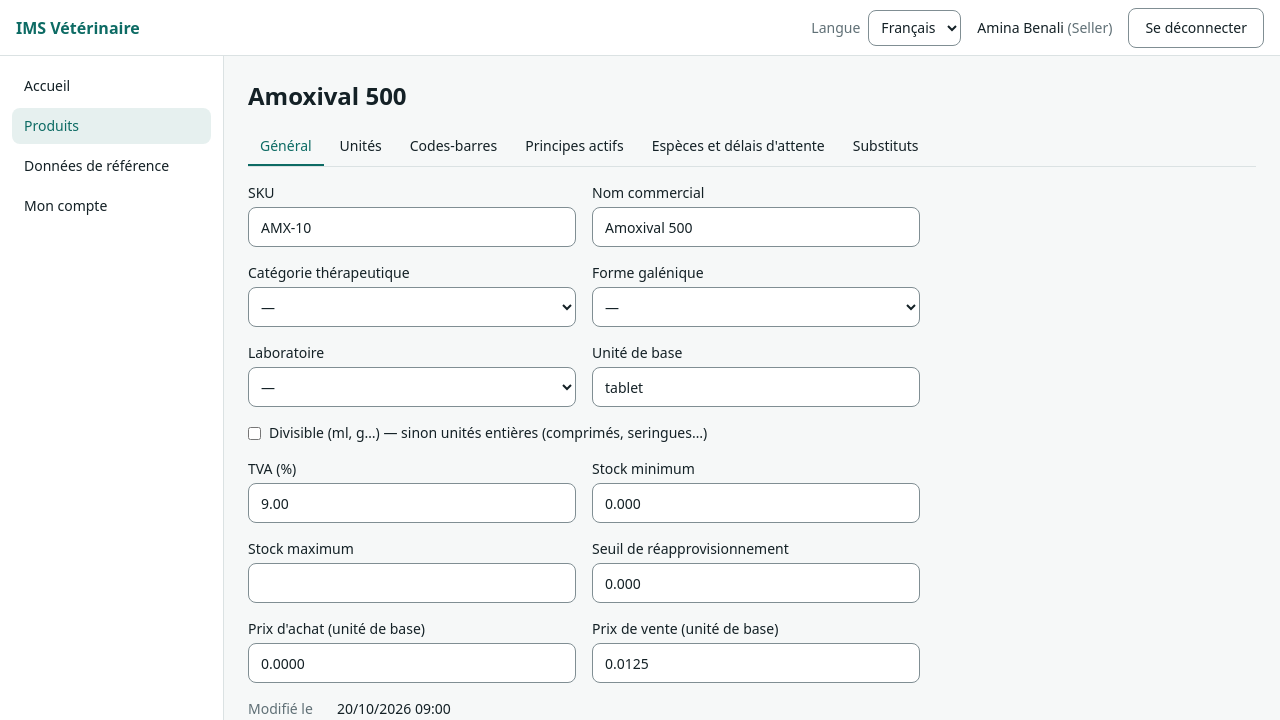
Test: units tab (FR-PROD-006/007) › lists units with their content and stored or derived price
The width and height of the screenshot is (1280, 720).
What coordinates should you click on to do the following:
click the tab "Unités"
I would click on:
 (361, 147)
Its box is [328,128,394,166].
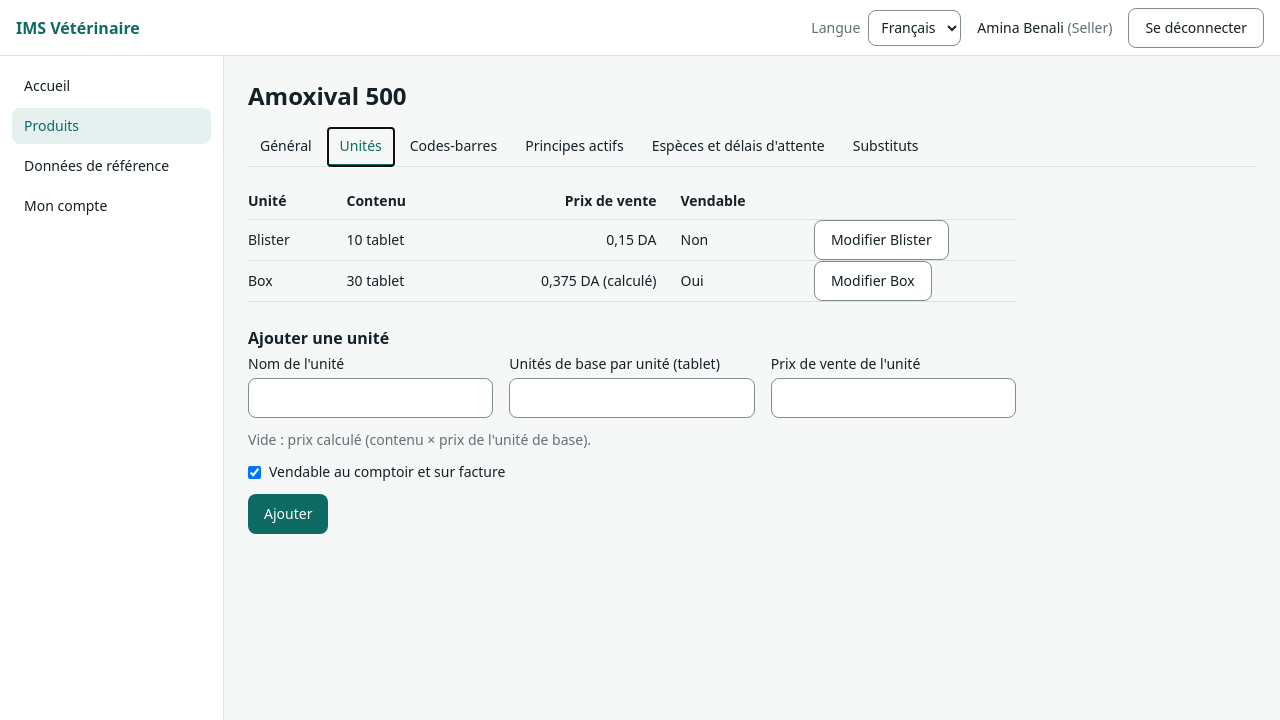
Result: the text "30 tablet" is shown at [346,260,472,302]
Result: the text "0,375 DA (calculé)" is shown at [472,260,680,302]
Result: the text "Oui" is shown at [680,260,814,302]
